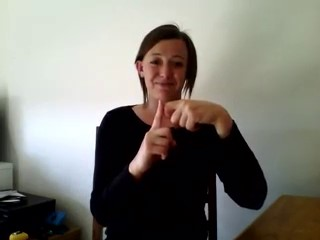K: (137, 96, 204, 173)
